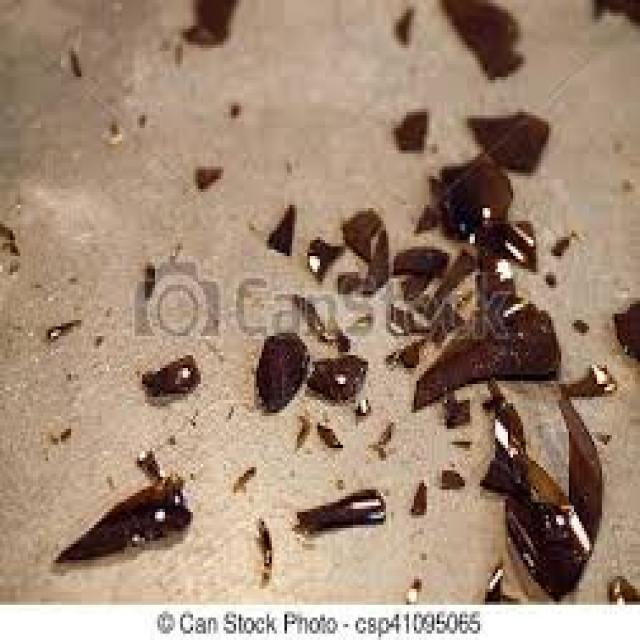Glass-Bottle: (364, 287, 604, 410), (47, 456, 211, 571), (479, 438, 601, 591), (417, 0, 531, 69), (554, 394, 615, 522), (466, 112, 554, 186), (243, 331, 310, 426), (286, 479, 388, 538), (256, 194, 314, 267), (56, 28, 120, 92), (137, 355, 219, 400), (312, 349, 377, 404), (384, 241, 468, 282), (252, 504, 286, 604), (384, 96, 432, 158), (46, 301, 96, 353), (186, 154, 242, 196), (129, 247, 171, 296), (233, 448, 263, 505), (407, 474, 435, 524)
